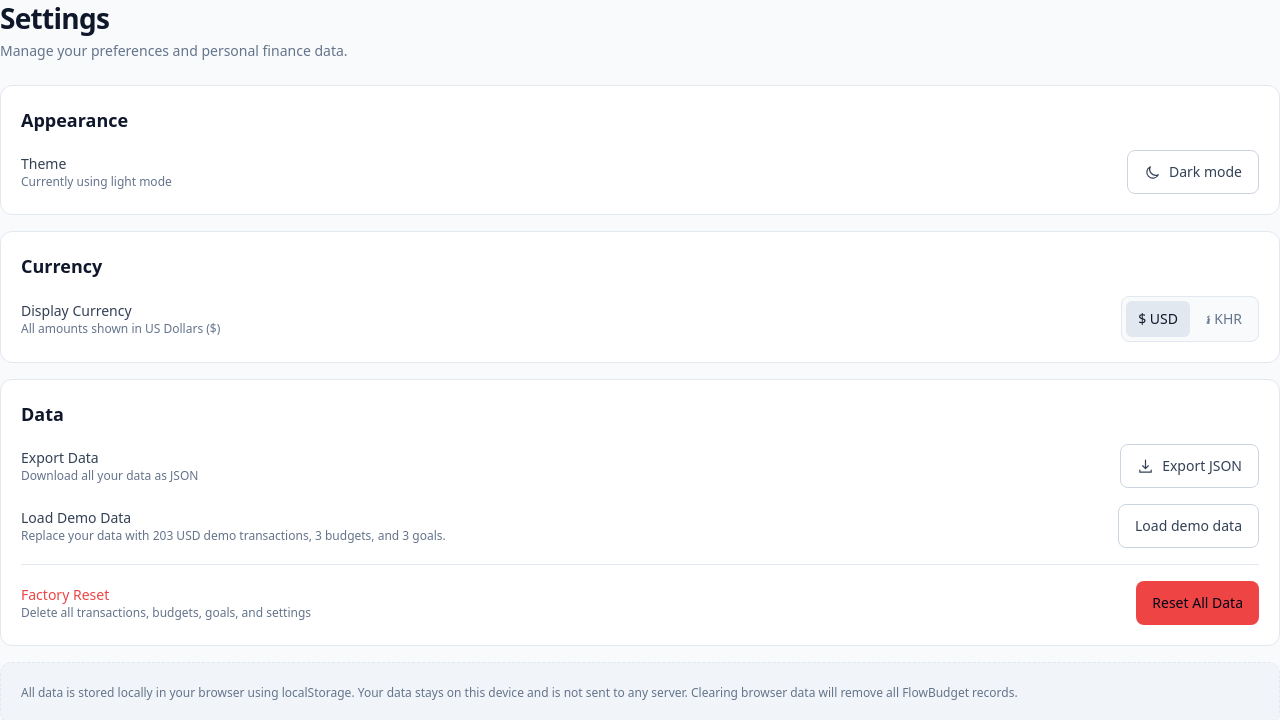
Test: currency changes (WBS 1.3.6.2) › confirmed USD to KHR switching clears records, keeps theme/other data, and survives remount
Later steps or results of the test are not shown.
Click the button "៛ KHR" at (1224,319), box [1194,301,1254,337]
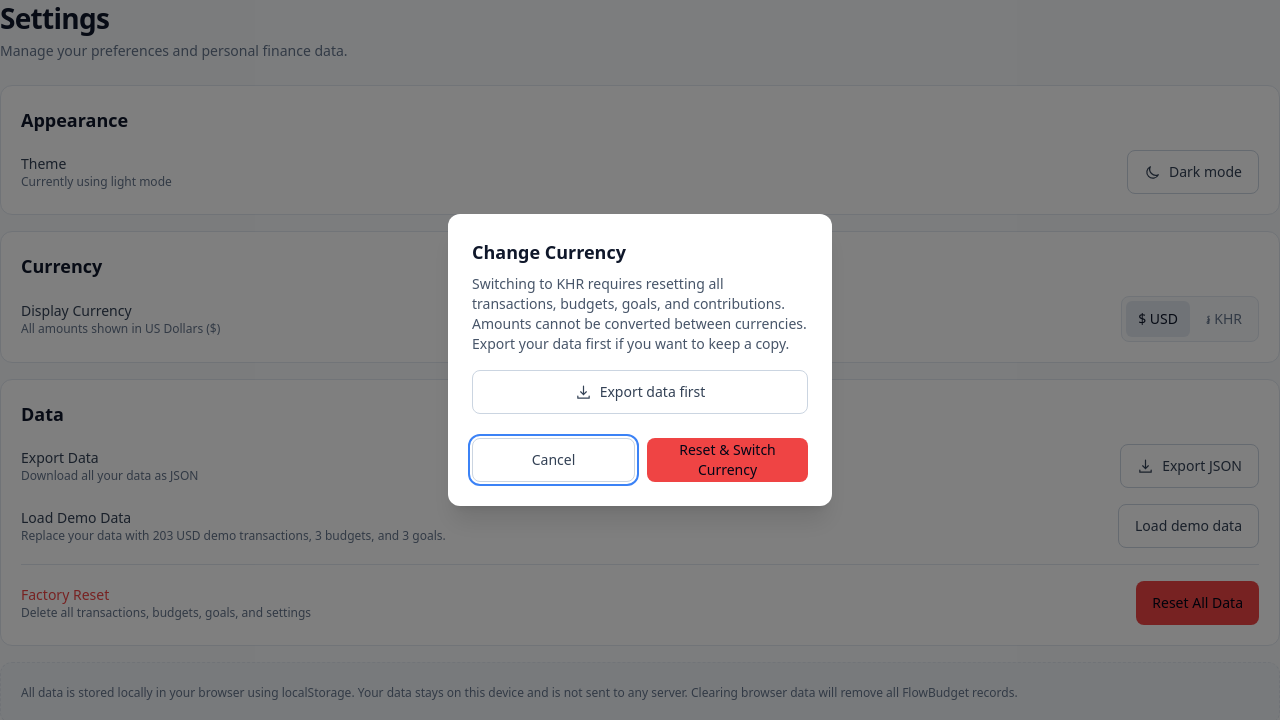
Expected: the button "Reset & Switch Currency" is shown, [647,438,808,482]
